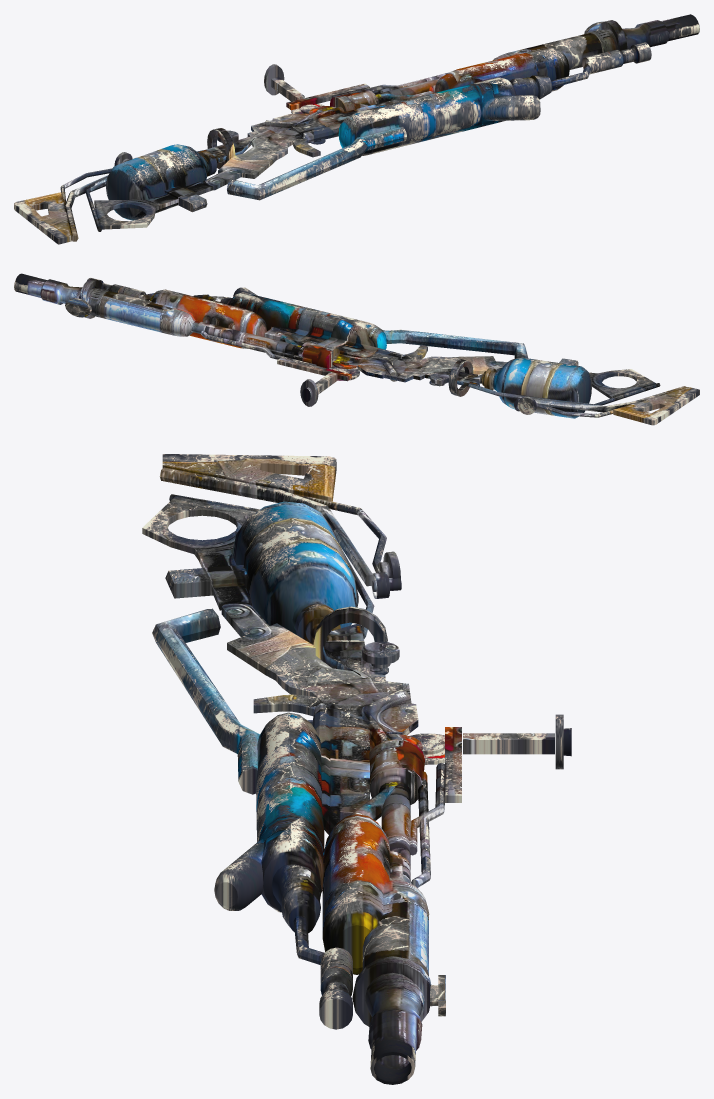
Rendered from gun.gltf.
3 views of the same model, one above another, from view 1: azimuth 30°, elevation 25°; view 2: azimuth 150°, elevation 25°; view 3: azimuth 270°, elevation 25° (orthographic). The views are drawn at different scales.
Visible parts, largest first — view 1: gun; view 2: gun; view 3: gun.
Part boxes in pixels (<box>): gun: <box>14,14,699,244</box>; gun: <box>14,273,699,425</box>; gun: <box>142,454,571,1084</box>.
Size of the model in its own units: 1.04 by 0.0767 by 0.3112.
1 material, 1 textured.
